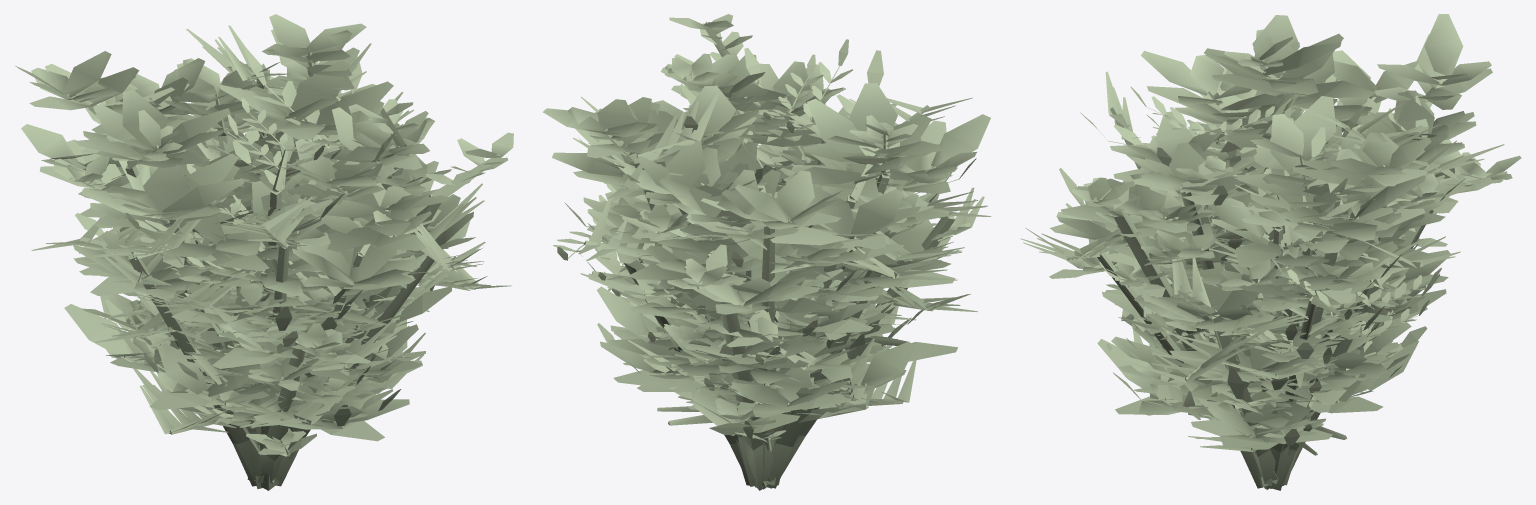
The model's file is shrub_mound.glb.
3 views of the same model, side by side, from view 1: azimuth 30°, elevation 25°; view 2: azimuth 150°, elevation 25°; view 3: azimuth 270°, elevation 25° (orthographic).
Visible parts, largest first — view 1: v2_foliage, v1_foliage, v5_foliage, v0_foliage, v4_foliage, v5_bark, v0_bark, v3_foliage, v2_bark, v1_bark, v3_bark; view 2: v2_foliage, v1_foliage, v5_foliage, v0_foliage, v4_foliage, v5_bark, v3_foliage, v0_bark, v1_bark, v3_bark, v2_bark; view 3: v2_foliage, v1_foliage, v0_foliage, v5_foliage, v4_foliage, v0_bark, v3_foliage, v5_bark, v3_bark, v1_bark, v2_bark.
Part boxes in pixels (x1,y1,x2,y2): v2_foliage: (21,61,475,441); v1_foliage: (15,14,435,414); v5_foliage: (31,25,511,434); v0_foliage: (53,99,513,456); v4_foliage: (105,49,434,426); v5_bark: (80,63,476,486); v0_bark: (70,108,501,486); v3_foliage: (169,98,380,422); v2_bark: (67,114,396,432); v1_bark: (66,48,395,490); v3_bark: (216,149,288,451); v2_foliage: (552,63,990,434); v1_foliage: (543,54,957,417); v5_foliage: (573,91,991,418); v0_foliage: (619,14,928,420); v4_foliage: (564,48,976,401); v5_bark: (584,105,970,488); v3_foliage: (553,39,937,442); v0_bark: (644,22,890,490); v1_bark: (604,83,886,489); v3_bark: (592,112,825,484); v2_bark: (655,134,935,488); v2_foliage: (1050,15,1465,449); v1_foliage: (1106,14,1507,412); v0_foliage: (1049,36,1521,431); v5_foliage: (1020,71,1504,451); v4_foliage: (1059,105,1465,445); v0_bark: (1085,58,1491,488); v3_foliage: (1109,86,1441,432); v5_bark: (1066,107,1441,489); v3_bark: (1203,131,1391,486); v1_bark: (1200,79,1444,490); v2_bark: (1118,71,1376,436).
Bounding box in the file's own units: 1.08 × 1 × 1.16.
